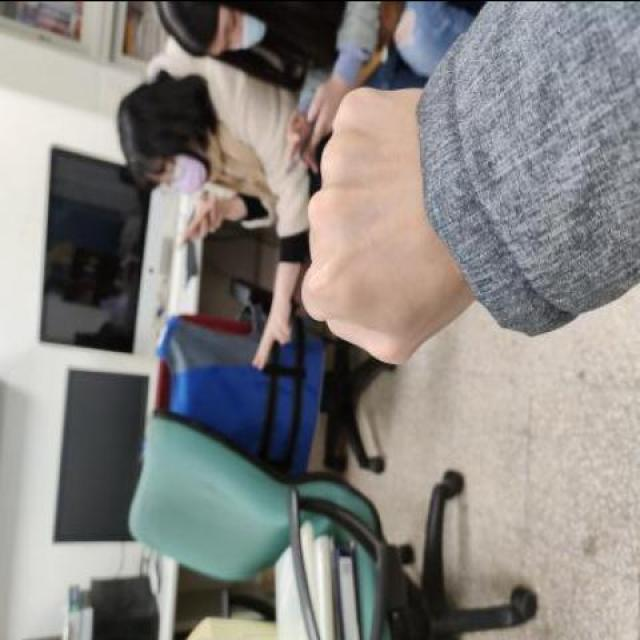Closed Hand: (260, 37, 492, 407)
